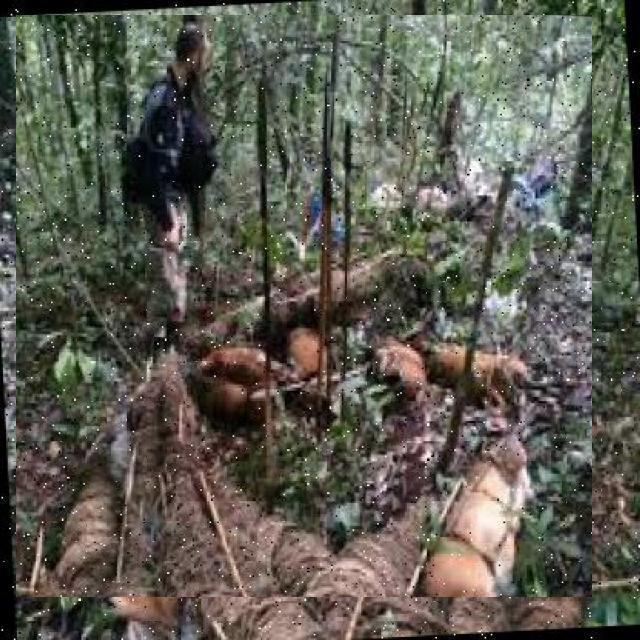p_export: (15, 15, 592, 597)
poacher: (388, 26, 469, 291)
